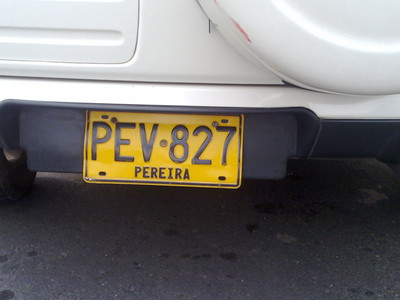placa_carro: (76, 107, 242, 188)
